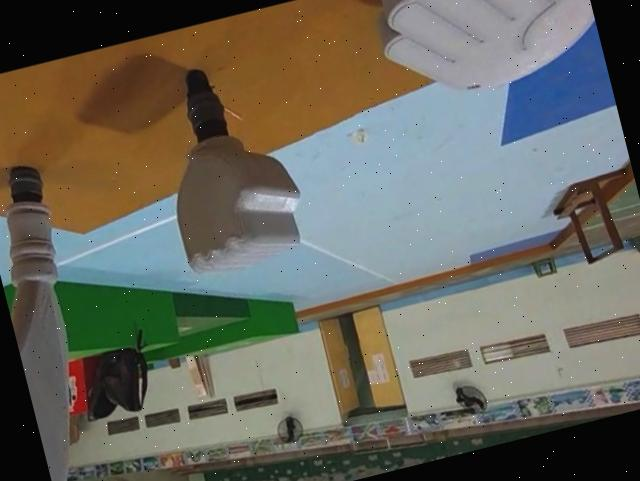Fist: (138, 50, 311, 285)
Hand: (362, 0, 605, 114)
Sph: (0, 155, 122, 481)
